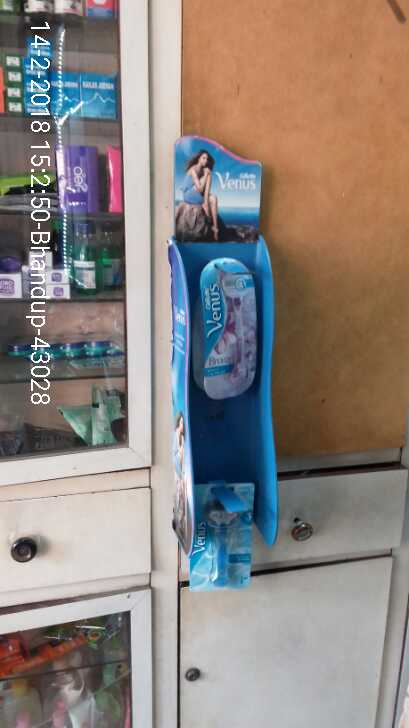venus: (200, 256, 259, 390), (194, 485, 249, 594)
